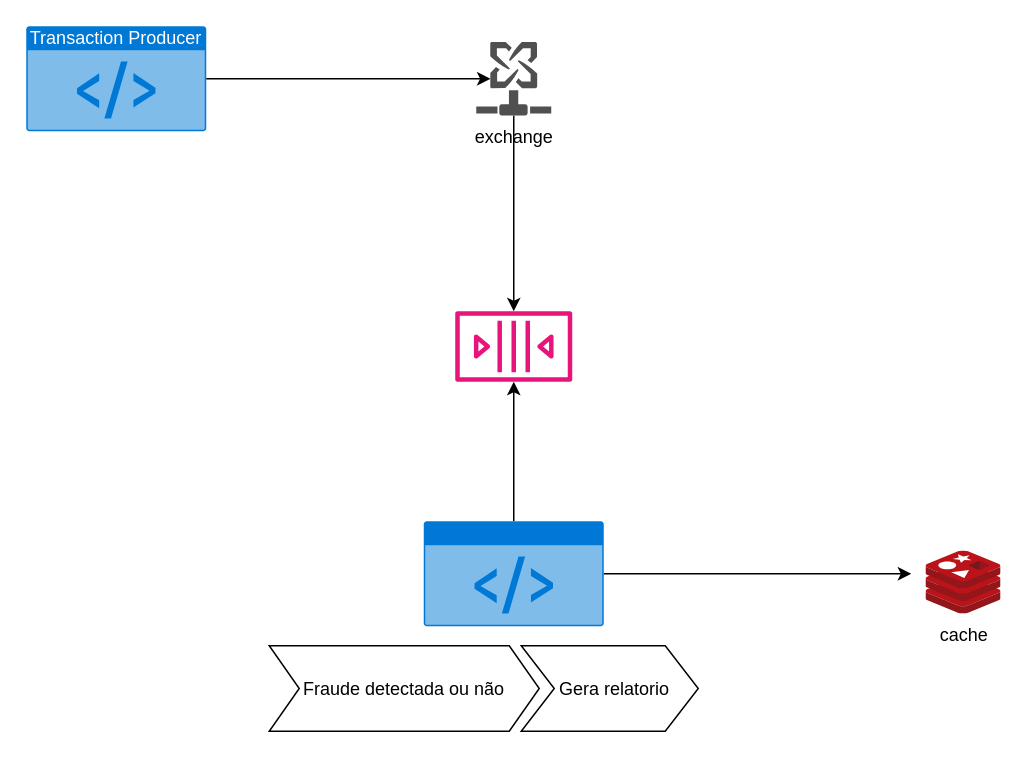
Image size: 1026x771. Some labels were removed from this diagram. Here are the shapes that lost their labels. From the top down, the centre of each, then its label:
pixel 513 345: Verifica-fraude-ueue
pixel 513 573: Fraud Validator Consumer
